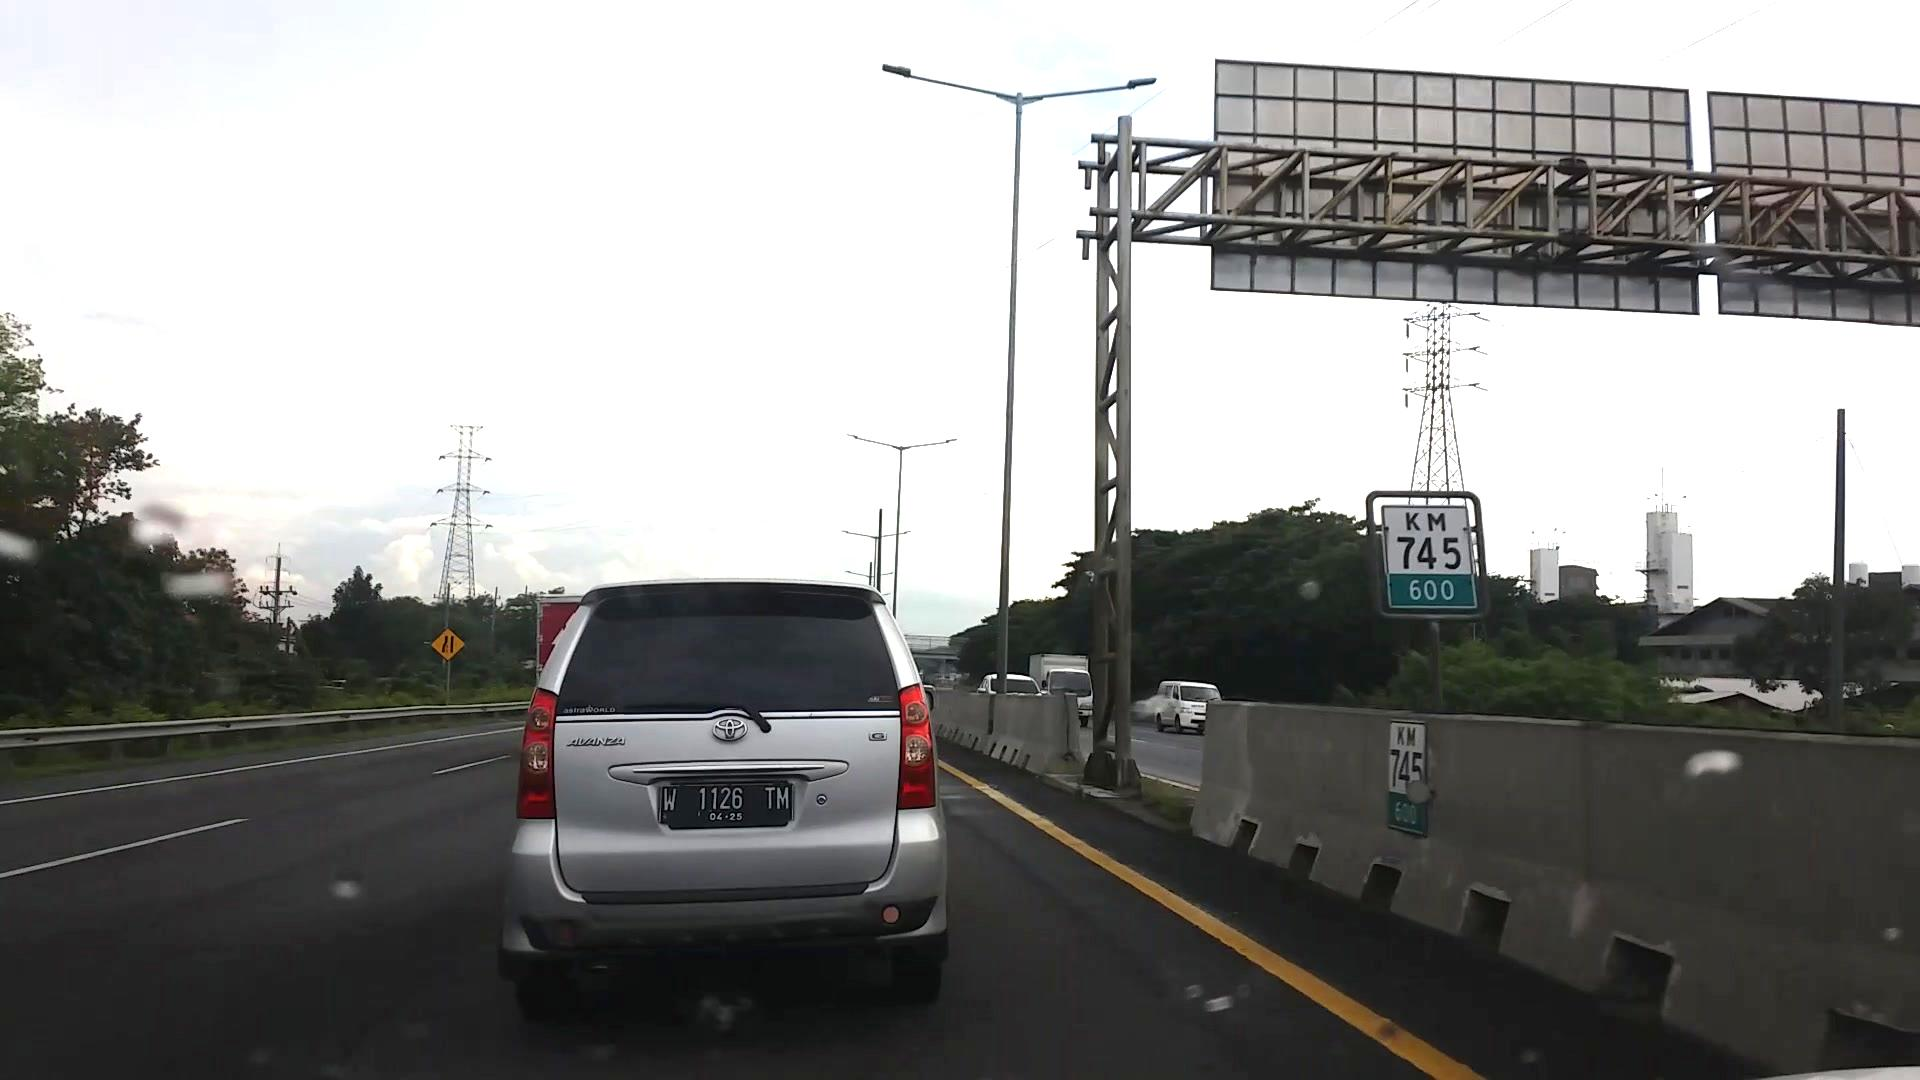plate_positive: (657, 782, 794, 828)
